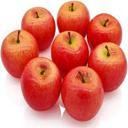apple: (87, 13, 123, 46)
